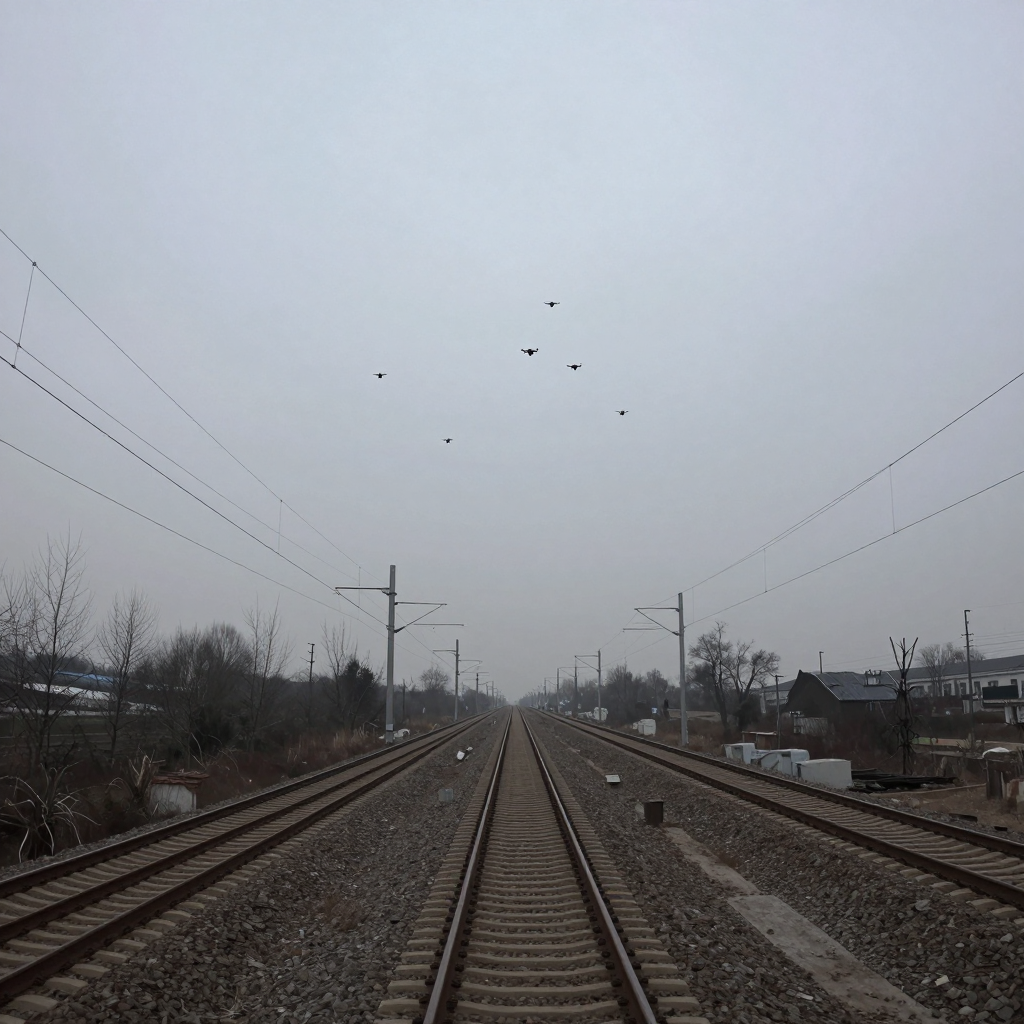drone: (566, 363, 582, 371), (521, 349, 538, 356), (544, 301, 560, 308), (615, 410, 629, 416), (373, 373, 387, 379), (442, 438, 453, 444)
